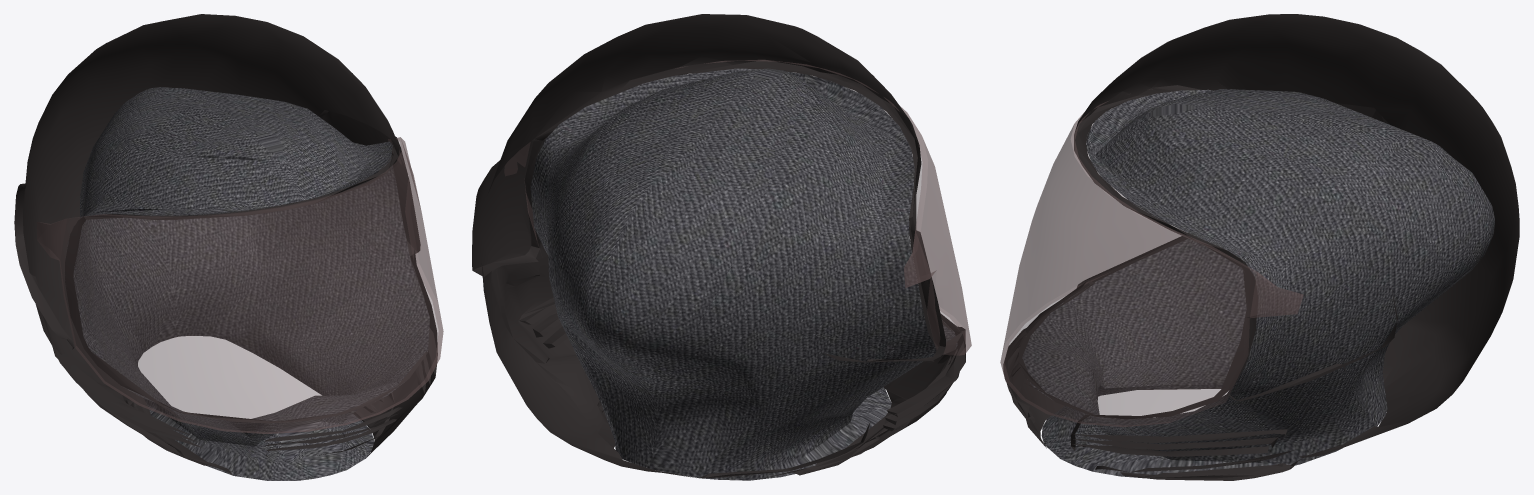
Rendered from helmet.glb.
3 renders of one model, left to right at view 1: azimuth 30°, elevation 25°; view 2: azimuth 150°, elevation 25°; view 3: azimuth 270°, elevation 25°, orthographic. The views are drawn at different scales.
Parts seen in each view (by area): view 1: Sphere.004_0, Sphere.001_0, Sphere_0; view 2: Sphere.004_0, Sphere_0, Sphere.001_0; view 3: Sphere.004_0, Sphere_0, Sphere.001_0.
Boxes of the visible parts, box(x1,y1,x2,y2) form: Sphere.004_0: box(64, 87, 429, 480); Sphere.001_0: box(36, 137, 443, 433); Sphere_0: box(14, 14, 437, 476); Sphere.004_0: box(530, 68, 957, 480); Sphere_0: box(472, 14, 965, 479); Sphere.001_0: box(504, 60, 971, 355); Sphere.004_0: box(1022, 89, 1494, 477); Sphere_0: box(1003, 14, 1519, 480); Sphere.001_0: box(1000, 101, 1303, 427).
Size of the model in its own units: 0.3037 by 0.2888 by 0.3426.
3 materials, 1 textured.
